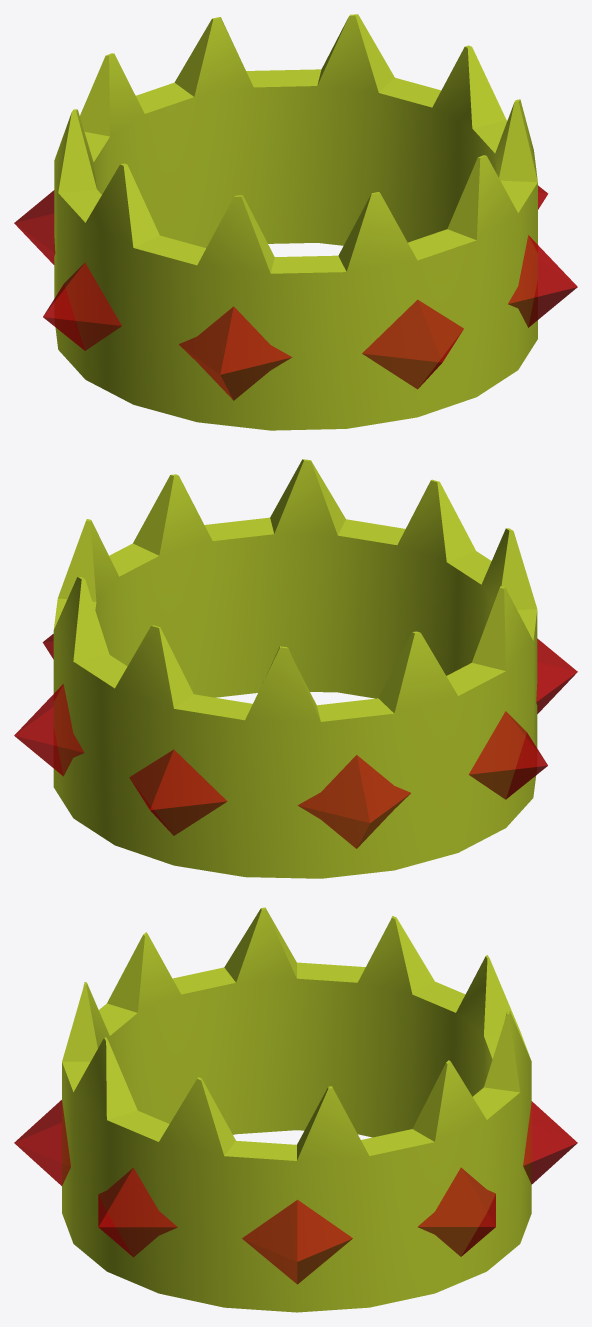
The model's file is red queen.fbx.
3 views of the same model, one above another, from view 1: azimuth 30°, elevation 25°; view 2: azimuth 150°, elevation 25°; view 3: azimuth 270°, elevation 25° (orthographic). The views are drawn at different scales.
Parts seen in each view (by area): view 1: pPipe2; view 2: pPipe2; view 3: pPipe2.
Boxes of the visible parts, x1,y1,x2,y2 form: pPipe2: [14, 14, 577, 430]; pPipe2: [14, 459, 577, 878]; pPipe2: [14, 907, 577, 1312].
Bounding box in the file's own units: 7.36 × 3.1 × 7.36.
